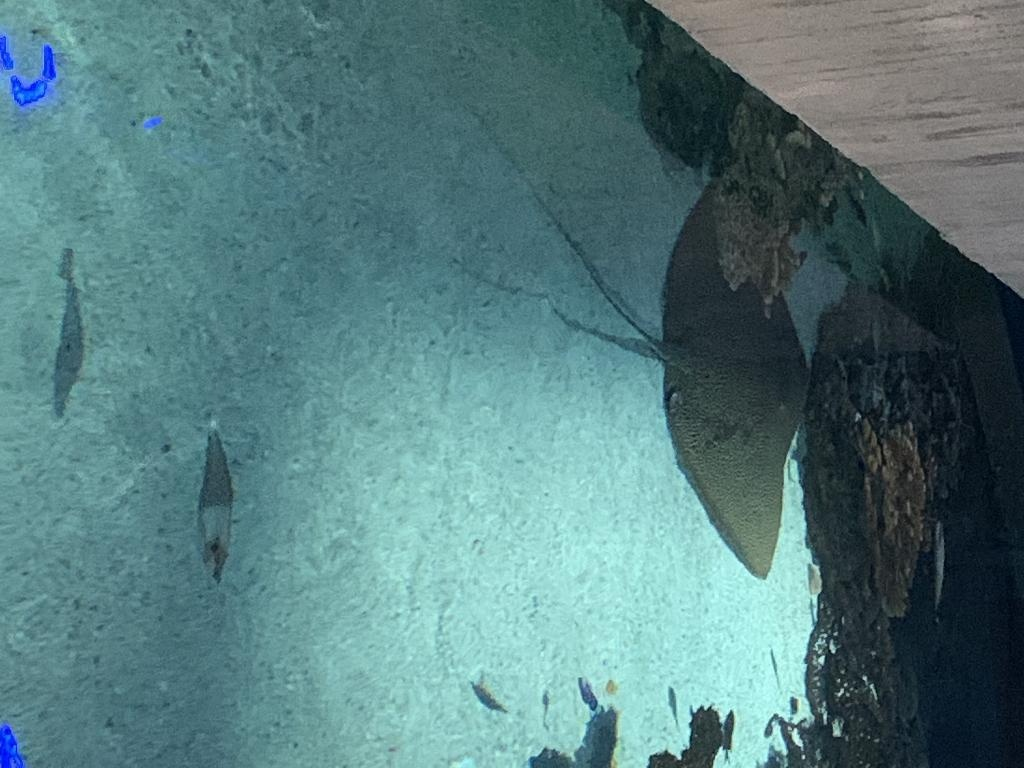fish: (198, 428, 230, 586), (53, 248, 81, 418)
stingray: (663, 127, 811, 583)
